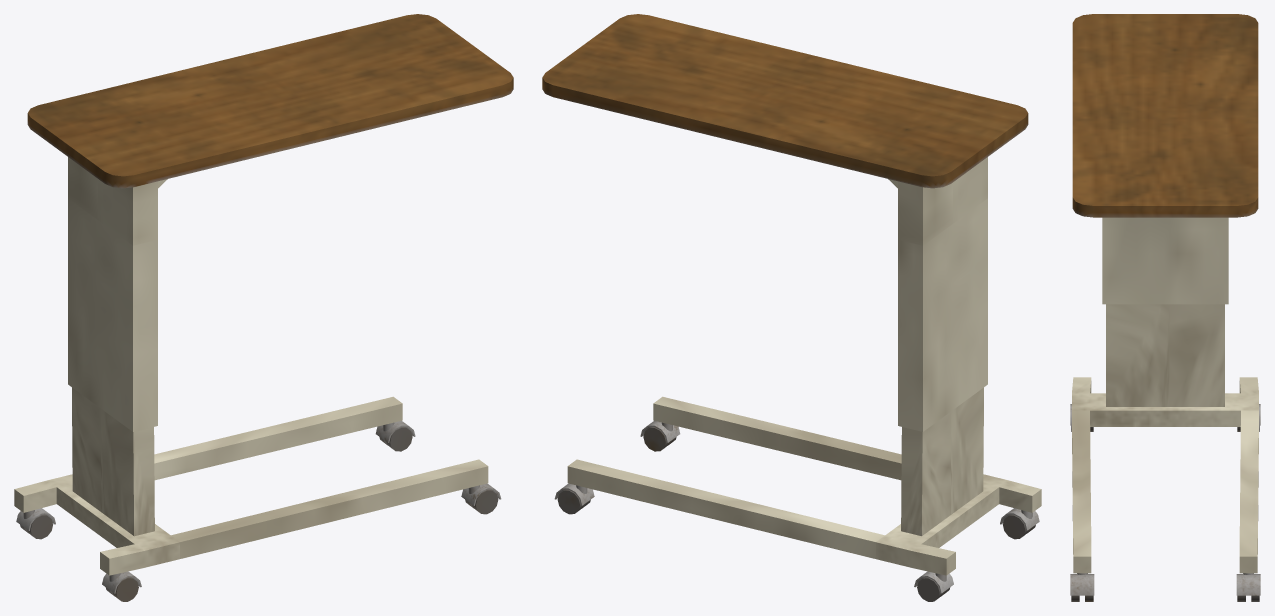
Rendered from mesa_cama_ps1.glb.
3 renders of one model, left to right at view 1: azimuth 30°, elevation 25°; view 2: azimuth 150°, elevation 25°; view 3: azimuth 270°, elevation 25°, orthographic. The views are drawn at different scales.
Parts seen in each view (by area): view 1: Cylinder.001; view 2: Cylinder.001; view 3: Cylinder.001.
Part boxes in pixels (x1,y1,x2,y2): Cylinder.001: (14, 14, 513, 601); Cylinder.001: (542, 14, 1041, 601); Cylinder.001: (1070, 14, 1260, 601).
Bounding box in the file's own units: 1.12 × 1.11 × 0.4646.
Materials: 1 (1 with a texture image).
